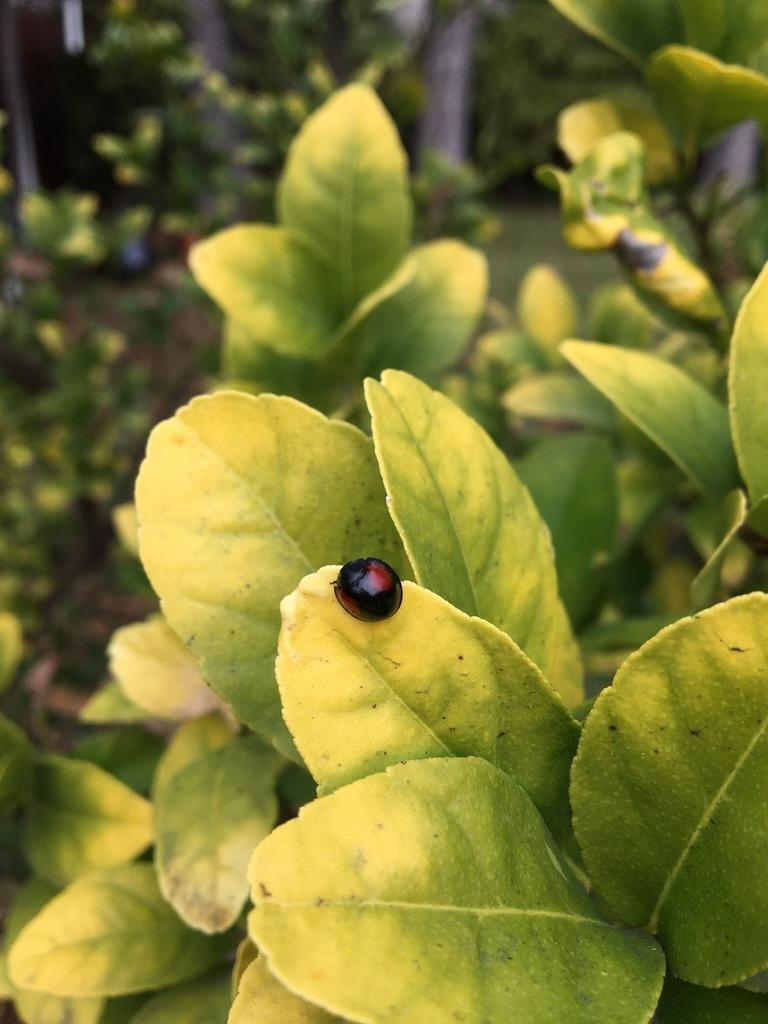ladybug: (329, 554, 409, 626)
